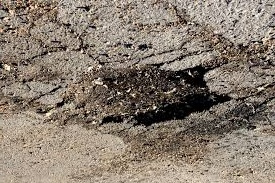pothole: (64, 49, 233, 129)
